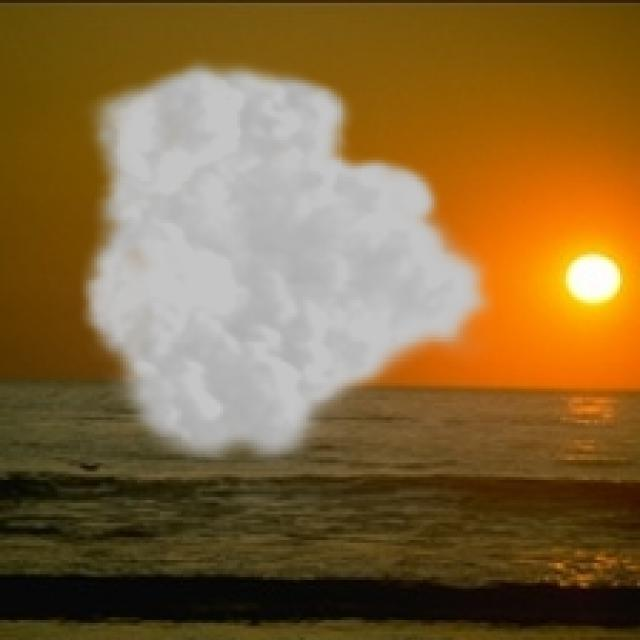smoke: (77, 54, 500, 474)
